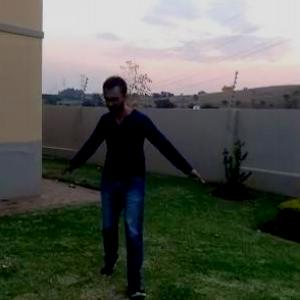land: (60, 65, 218, 289)
